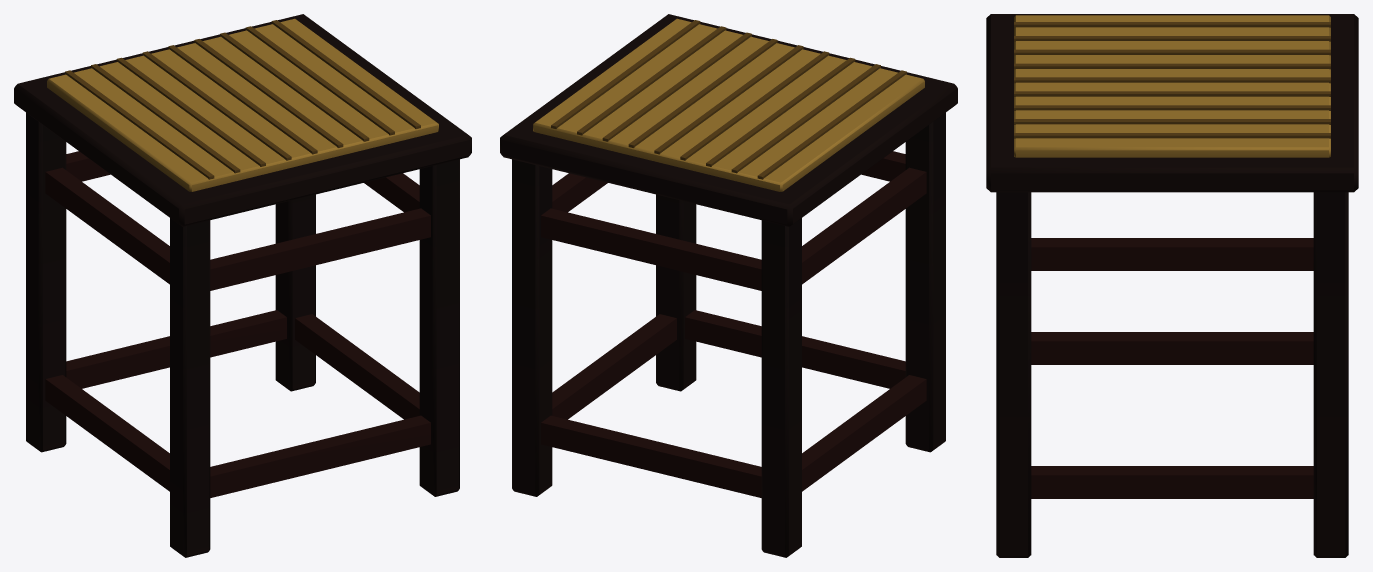
The model's file is tea-stool-square.glb.
3 views of the same model, side by side, from view 1: azimuth 30°, elevation 25°; view 2: azimuth 150°, elevation 25°; view 3: azimuth 270°, elevation 25° (orthographic). The views are drawn at different scales.
Visible parts, largest first — view 1: frame__wood, seat__bamboo; view 2: frame__wood, seat__bamboo; view 3: frame__wood, seat__bamboo.
Part boxes in pixels (box(x1,y1,x2,y2)): frame__wood: box(14, 14, 471, 557); seat__bamboo: box(47, 18, 438, 191); frame__wood: box(500, 14, 957, 557); seat__bamboo: box(533, 18, 924, 191); frame__wood: box(986, 14, 1358, 557); seat__bamboo: box(1014, 15, 1330, 157).
Size of the model in its own units: 0.34 by 0.4095 by 0.34.
